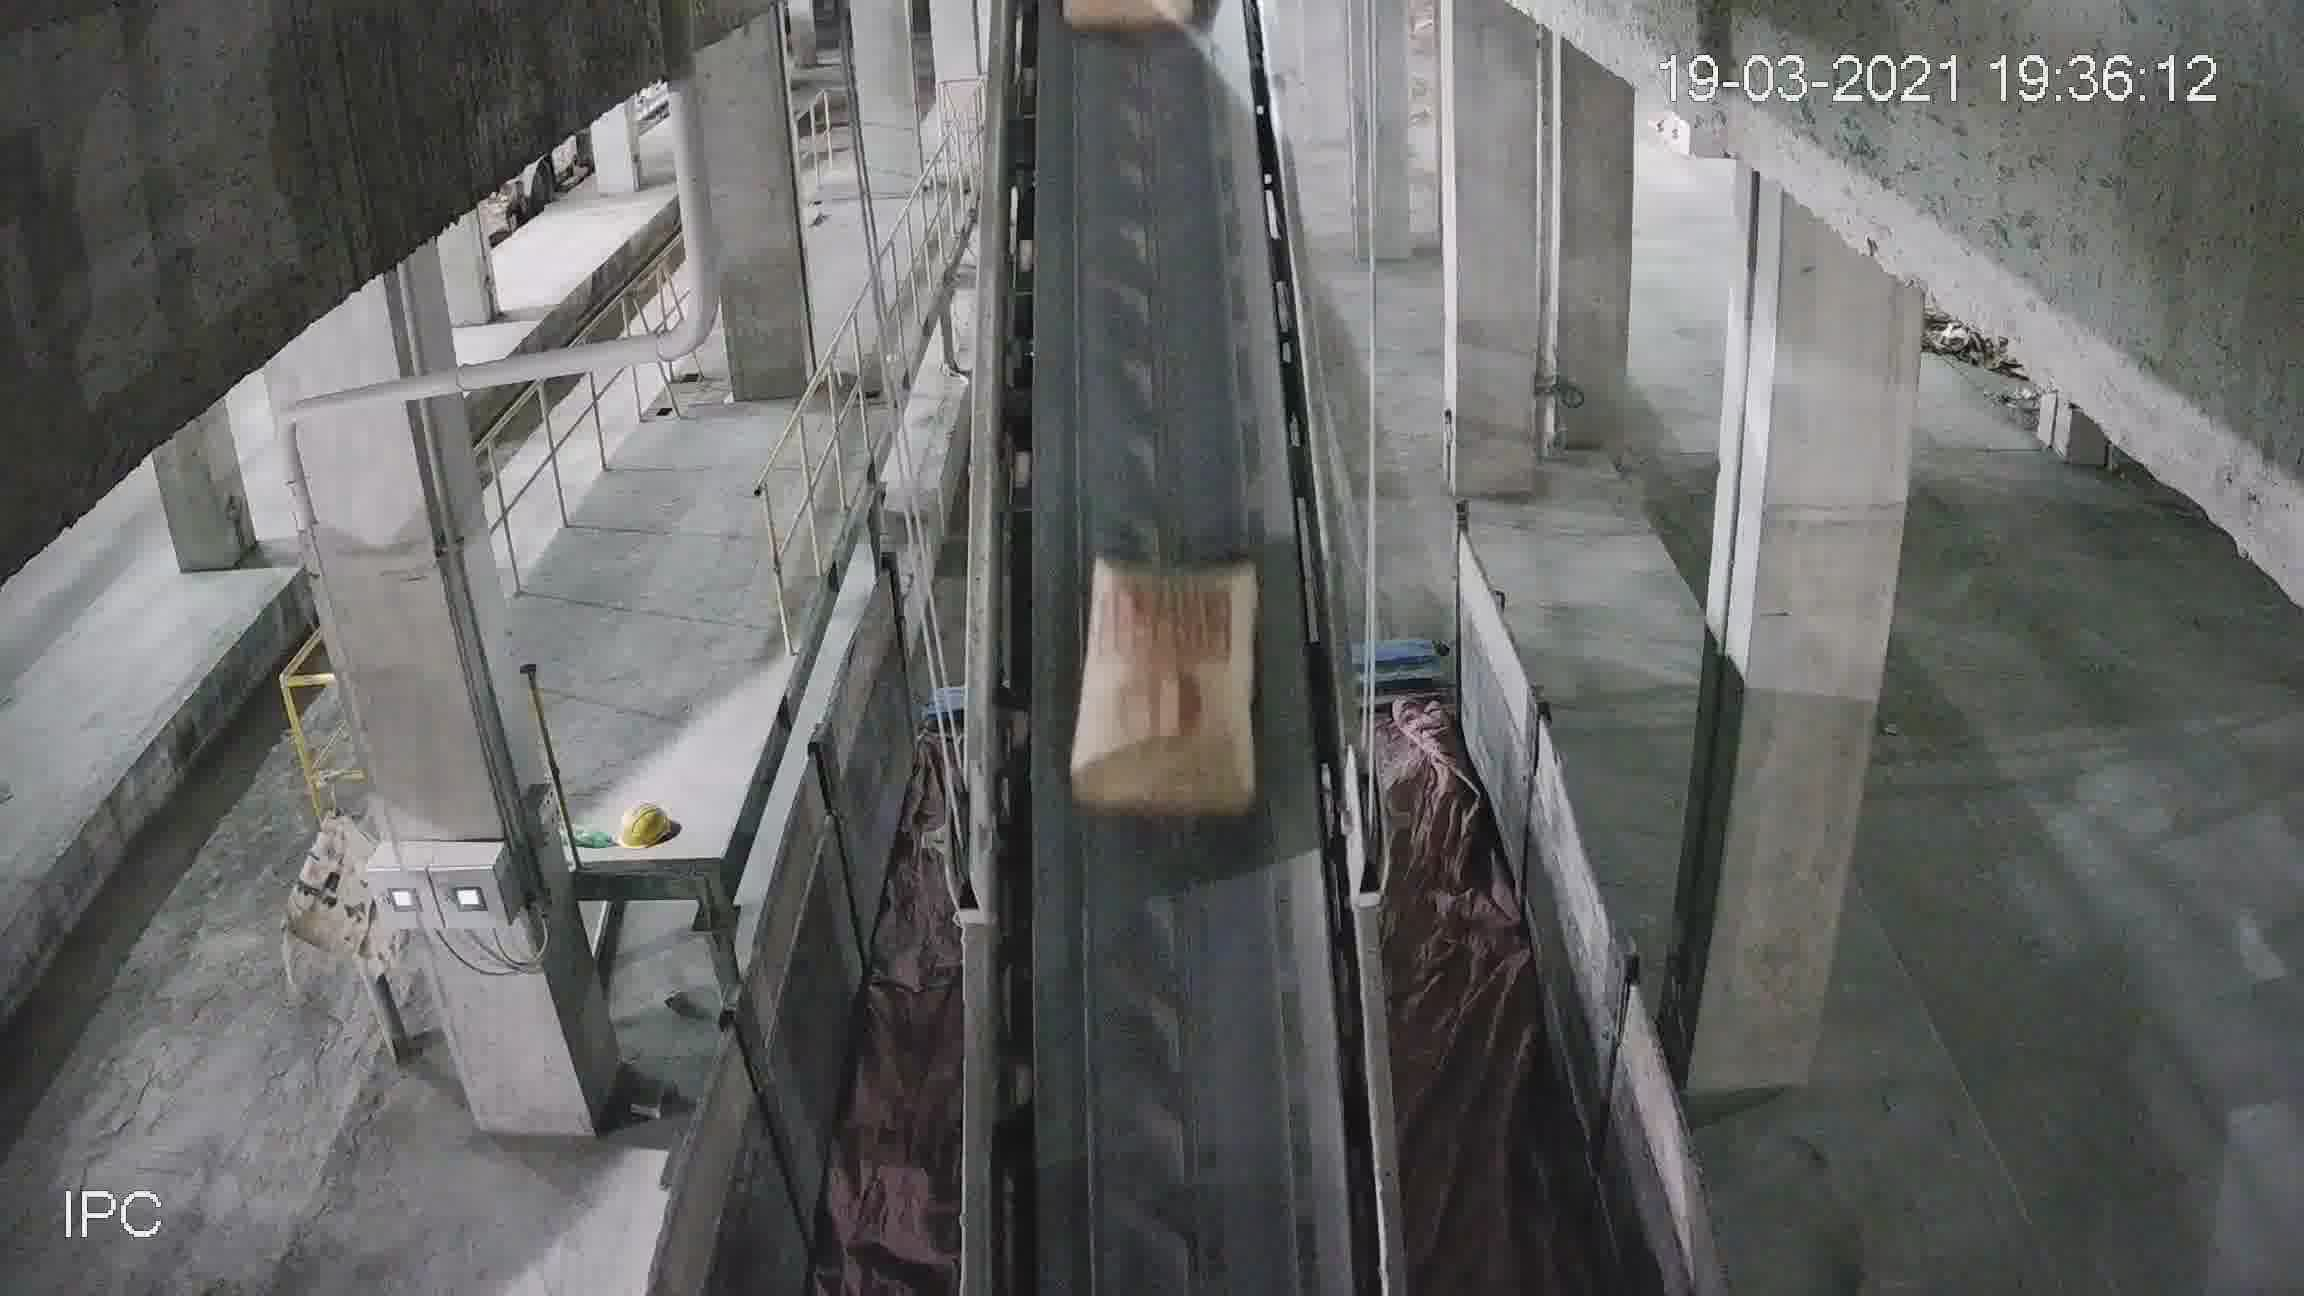bag: (1082, 567, 1258, 809)
belt: (964, 47, 1380, 1245)
